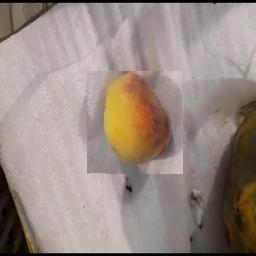Peach Fresh: (88, 72, 184, 175)
